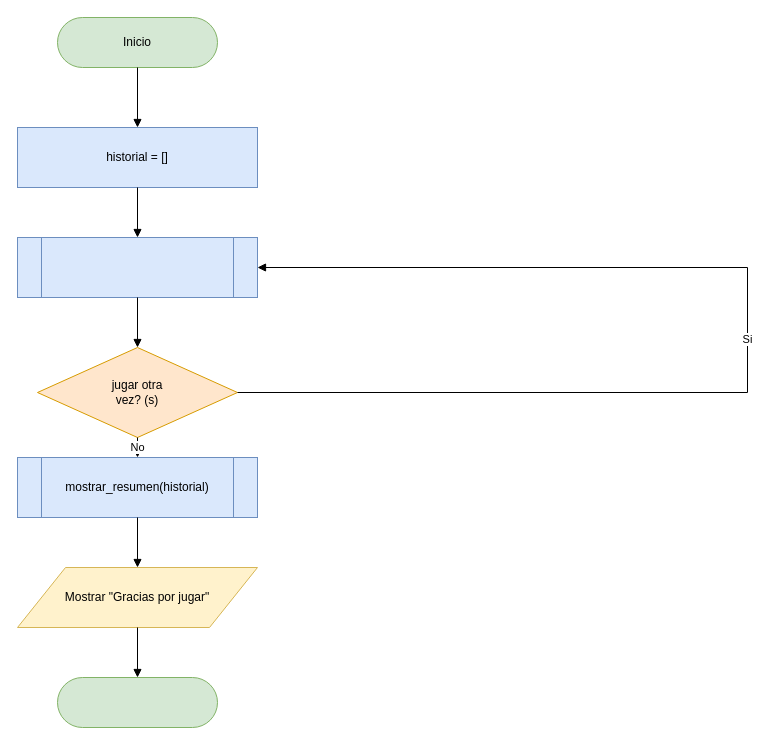
Some shapes in this 773 by 745 pixel diagram are drawn without their labels. Here are the shapes that lost their labels. From the top down, the centre of each, then its label:
At (137,267): "resultado = jugar_partida() agregar a historial".
At (137,702): "Fin".
